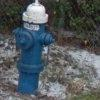a fire hydrant: (13, 0, 56, 92)
